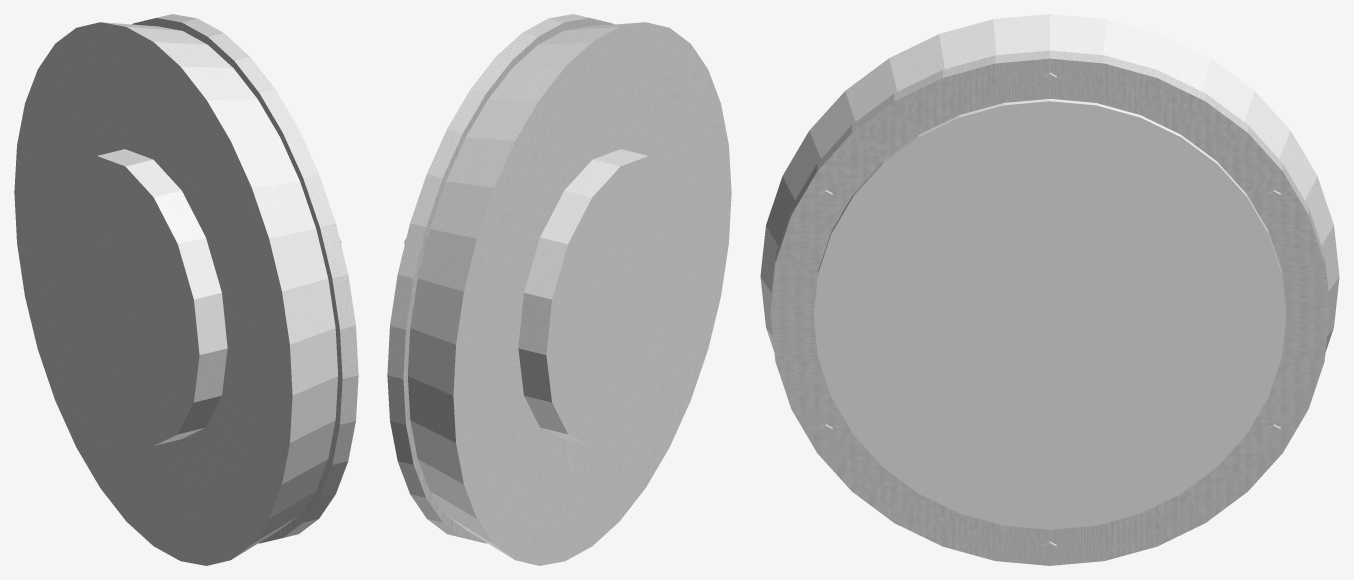
Rendered from poolnichelight.obj.
The picture shows the model from 3 angles, left to right: view 1: azimuth 30°, elevation 25°; view 2: azimuth 150°, elevation 25°; view 3: azimuth 270°, elevation 25°; orthographic projection. The views are drawn at different scales.
Visible parts, largest first — view 1: Metal, Base, Trim; view 2: Metal, Base, Trim; view 3: Light0, Trim, Metal.
Part boxes in pixels (x1,y1,x2,y2): Metal: (14, 22, 337, 565); Base: (51, 149, 227, 445); Trim: (132, 14, 358, 543); Metal: (408, 22, 731, 565); Base: (518, 149, 694, 445); Trim: (387, 14, 613, 543); Light0: (813, 99, 1286, 529); Trim: (770, 50, 1329, 565); Metal: (760, 14, 1339, 351).
Size of the model in its own units: 0.131 by 0.6 by 0.6.
